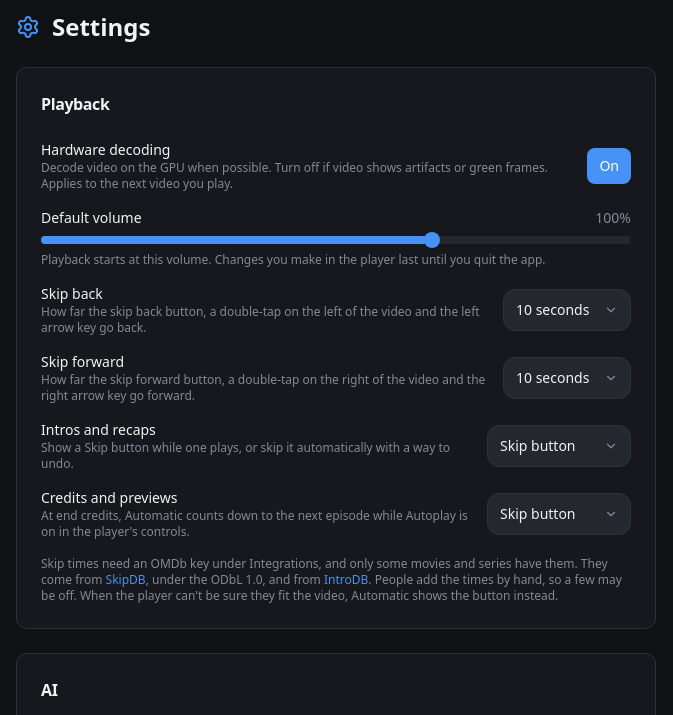
Scenario: Settings playback › turns hardware decoding off and on and keeps the choice
Click the button with aria-label "Hardware decoding" at coordinates (609, 166), box x1=587 y1=148 x2=631 y2=184
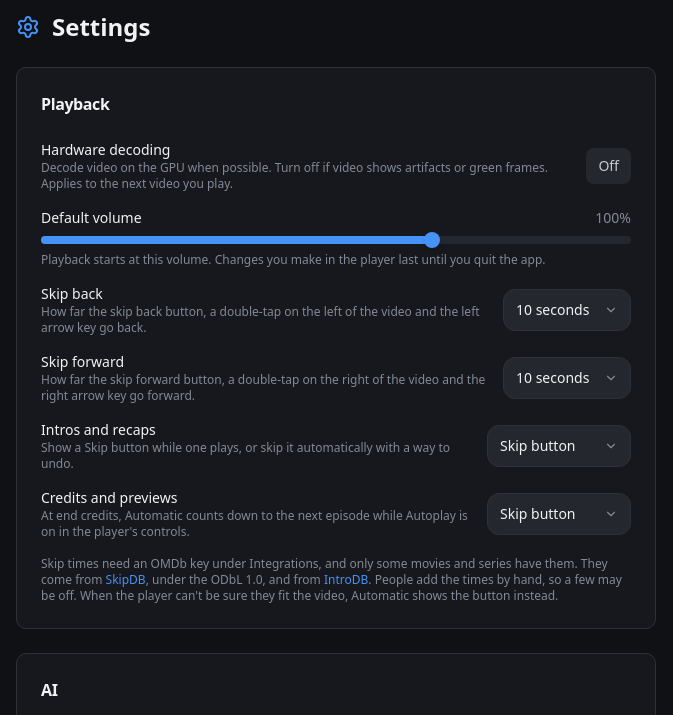
Now the button with aria-label "Hardware decoding" reads "Off"
Click the button with aria-label "Hardware decoding" at coordinates (609, 166), box x1=586 y1=148 x2=631 y2=184
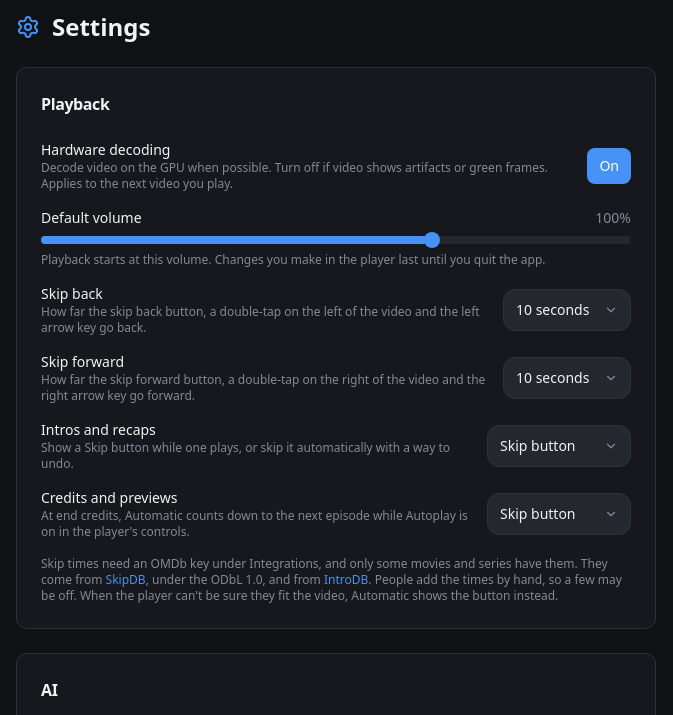
Now the button with aria-label "Hardware decoding" reads "On", box x1=587 y1=148 x2=631 y2=184
